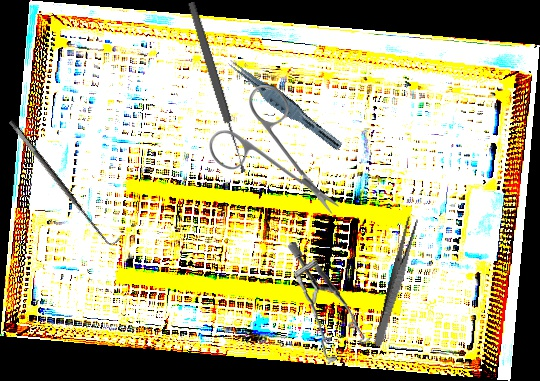Dressing Forceps: (372, 215, 420, 348)
Hook Surgical: (7, 111, 122, 251)
Iris Scissors: (207, 83, 340, 217)
Speculum: (278, 241, 378, 368)
Surgical Spoon: (185, 0, 249, 175)
Tissue Forceps: (222, 56, 348, 152)
